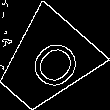O_SW: (12, 29, 80, 96)
